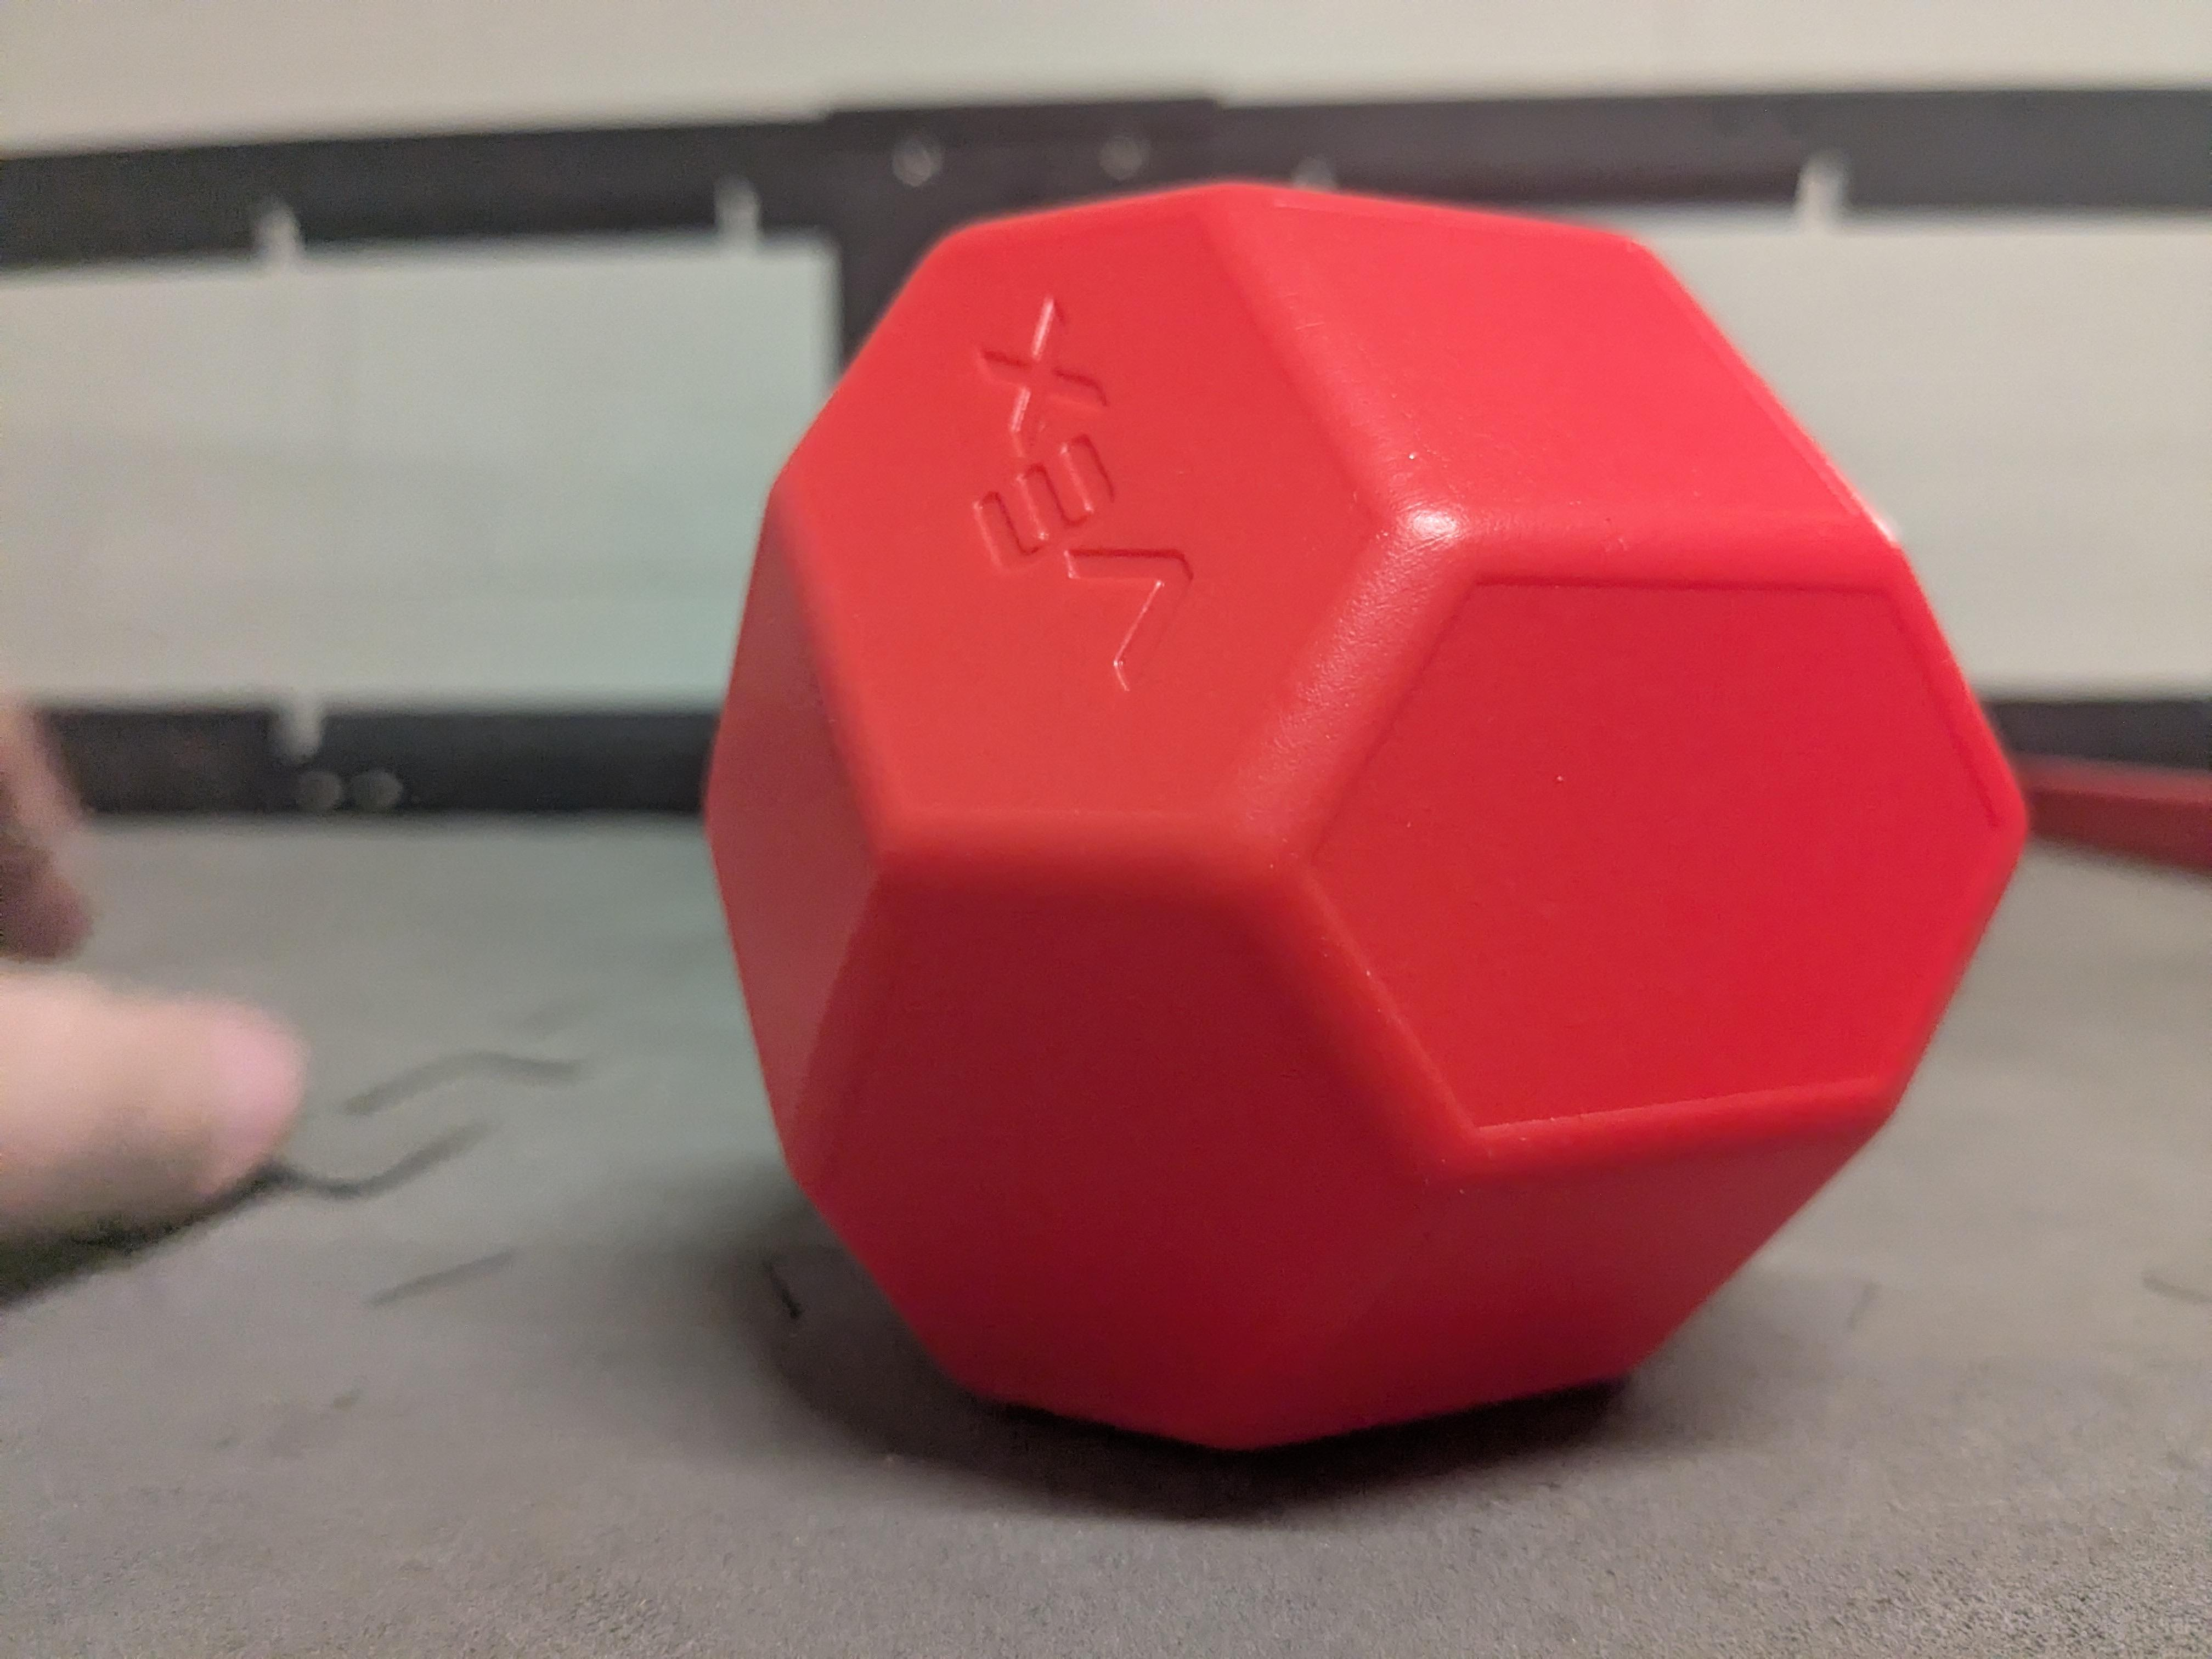Vex-Pieces-RED: (707, 183, 2026, 1446)
